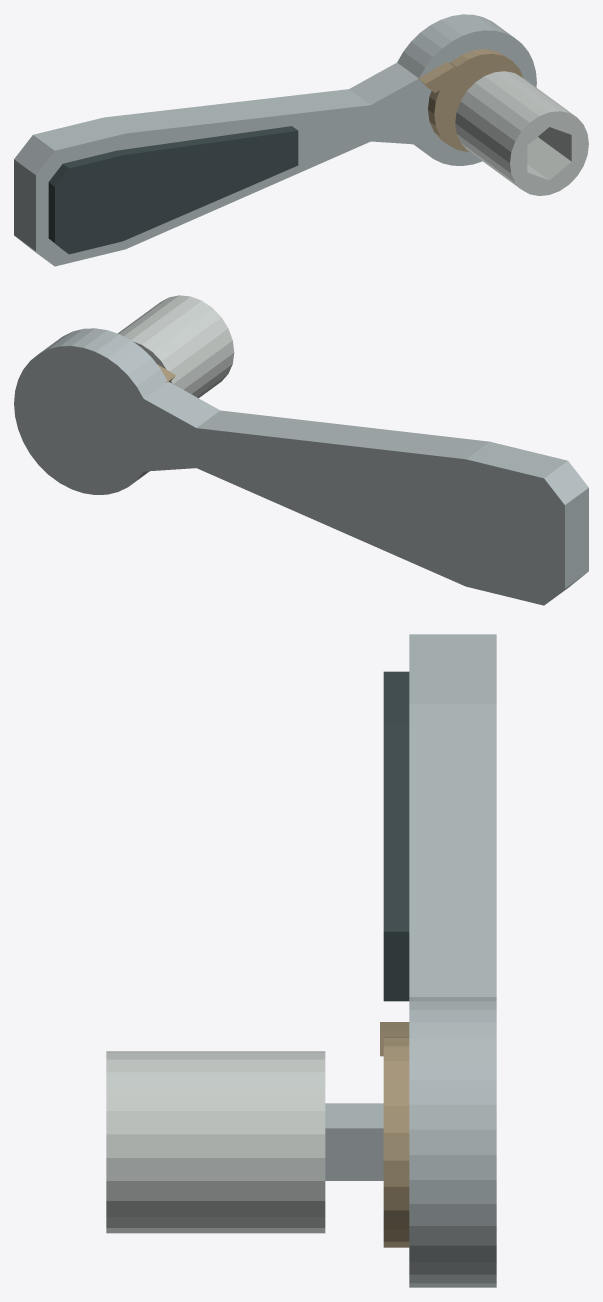
The picture shows the model from 3 angles, top to bottom: view 1: azimuth 30°, elevation 25°; view 2: azimuth 150°, elevation 25°; view 3: azimuth 270°, elevation 25°; orthographic projection. The views are drawn at different scales.
Parts seen in each view (by area): view 1: WholeContinuousLongHandleAndRoundHead, WholeDarkTailGripPad, WholeDeepHexSocketAndSquareRearPassage, WholeProudHeadCover, WholeFixedSelectorTab; view 2: WholeContinuousLongHandleAndRoundHead, WholeDeepHexSocketAndSquareRearPassage; view 3: WholeContinuousLongHandleAndRoundHead, WholeDeepHexSocketAndSquareRearPassage, WholeDarkTailGripPad, WholeProudHeadCover, WholeFixedSquareDrive.
Part boxes in pixels (<box>): WholeContinuousLongHandleAndRoundHead: <box>14,14,536,266</box>; WholeDarkTailGripPad: <box>48,126,298,254</box>; WholeDeepHexSocketAndSquareRearPassage: <box>455,71,588,195</box>; WholeProudHeadCover: <box>428,49,523,151</box>; WholeFixedSelectorTab: <box>417,62,457,92</box>; WholeContinuousLongHandleAndRoundHead: <box>14,328,588,605</box>; WholeDeepHexSocketAndSquareRearPassage: <box>118,295,234,398</box>; WholeContinuousLongHandleAndRoundHead: <box>409,634,496,1287</box>; WholeDeepHexSocketAndSquareRearPassage: <box>106,1051,325,1233</box>; WholeDarkTailGripPad: <box>383,671,409,1001</box>; WholeProudHeadCover: <box>383,1037,409,1247</box>; WholeFixedSquareDrive: <box>325,1103,383,1180</box>.
Bounding box in the file's own units: 0.317 × 0.08 × 0.107.
